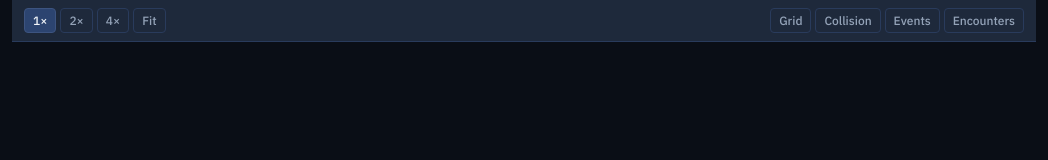
Test case: GbcMapCanvas: Encounters overlay (Plan 6c B4) › a failed fetch shows the error as an alert in the legend row
What coordinates should you click on to do the following:
click the button "Encounters"
I would click on:
 (984, 20)
Its box is x1=944 y1=8 x2=1024 y2=33.
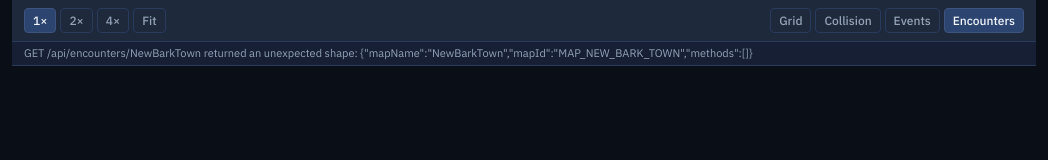
Expected: the message shows "/api/encounters/NewBarkTown returned an unexpected shape", x1=24 y1=46 x2=752 y2=60
